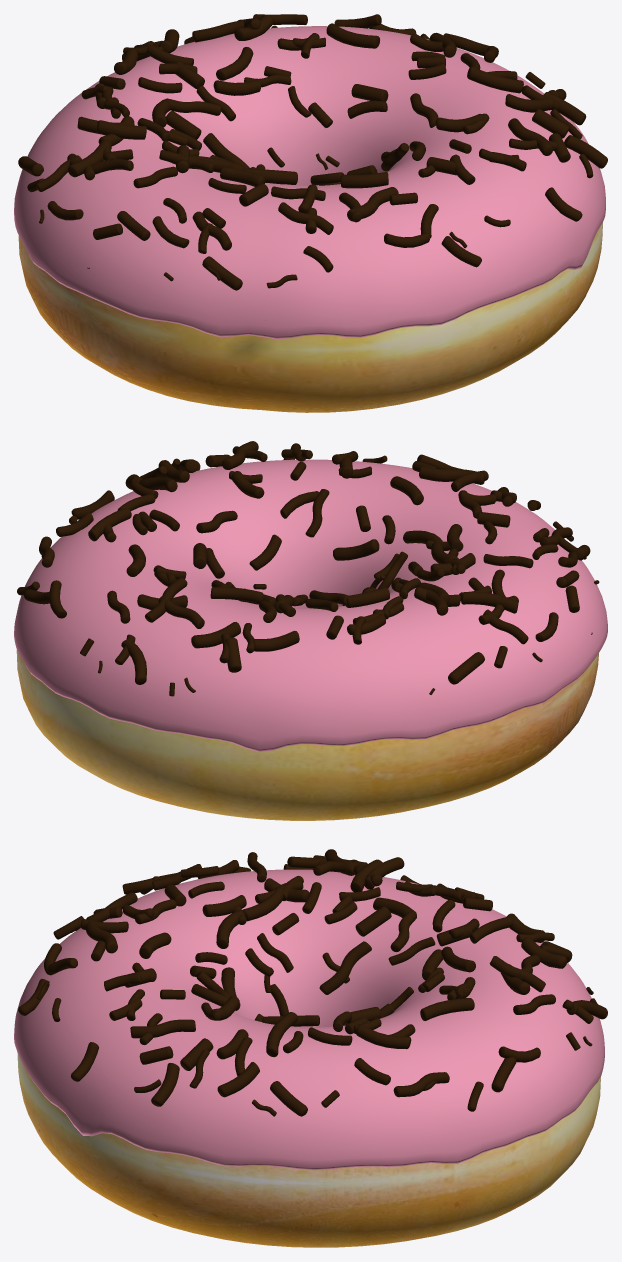
The model's file is strawberry chocolate vermicheli.glb.
The picture shows the model from 3 angles, top to bottom: view 1: azimuth 30°, elevation 25°; view 2: azimuth 150°, elevation 25°; view 3: azimuth 270°, elevation 25°; orthographic projection. The views are drawn at different scales.
Parts seen in each view (by area): view 1: chocolate.002, w chocolate, Torus; view 2: chocolate.002, Torus, w chocolate; view 3: chocolate.002, w chocolate, Torus.
Part boxes in pixels (x1=…): chocolate.002: x1=14, y1=26, x2=605, y2=339; w chocolate: x1=18, y1=14, x2=607, y2=290; Torus: x1=18, y1=222, x2=602, y2=412; chocolate.002: x1=14, y1=459, x2=607, y2=752; Torus: x1=16, y1=649, x2=598, y2=820; w chocolate: x1=17, y1=441, x2=599, y2=696; chocolate.002: x1=14, y1=869, x2=604, y2=1170; w chocolate: x1=18, y1=849, x2=607, y2=1116; Torus: x1=17, y1=1052, x2=600, y2=1247.
Size of the model in its own units: 0.1988 by 0.0811 by 0.198.
Materials: 3 (1 with a texture image).
